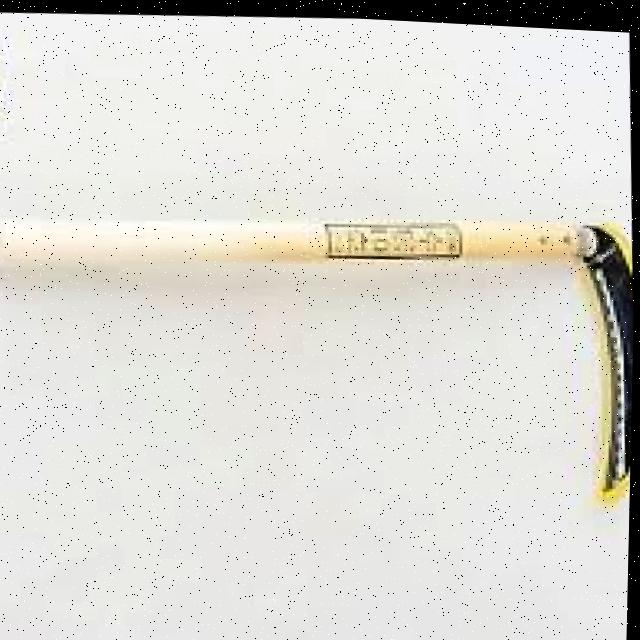sickle: (0, 89, 638, 523)
